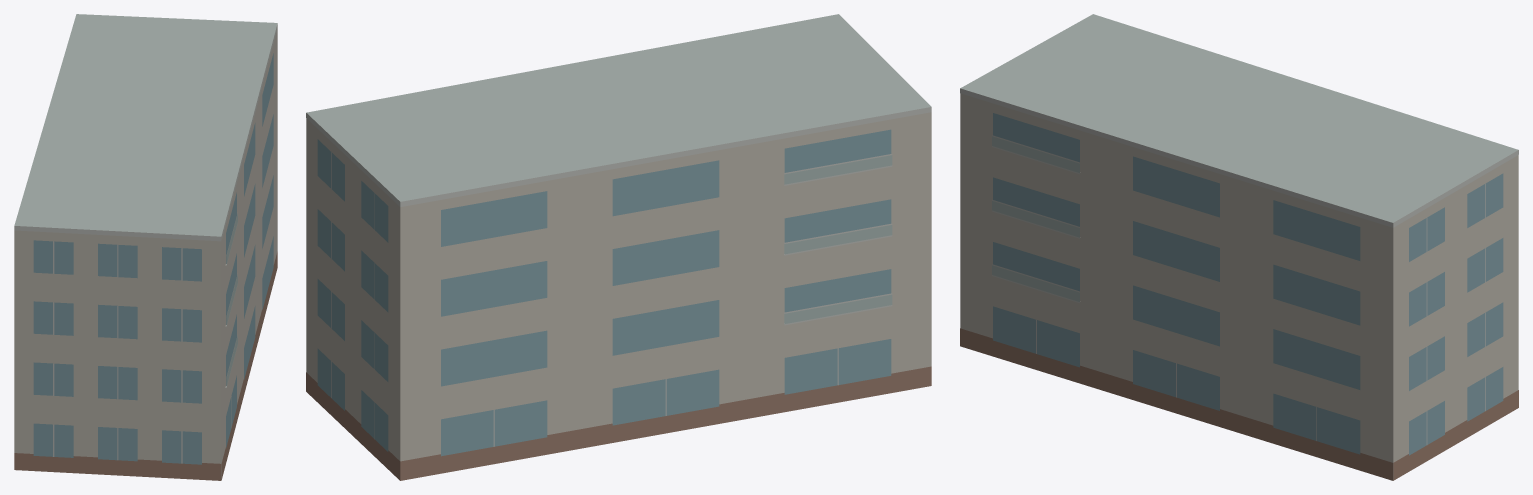
Rendered from survey-upis-32631779.glb.
3 renders of one model, left to right at view 1: azimuth 30°, elevation 25°; view 2: azimuth 150°, elevation 25°; view 3: azimuth 270°, elevation 25°, orthographic. The views are drawn at different scales.
Visible parts, largest first — view 1: survey-upis-32631779.tmp; view 2: survey-upis-32631779.tmp; view 3: survey-upis-32631779.tmp.
Part boxes in pixels (x1,y1,x2,y2): survey-upis-32631779.tmp: [14, 14, 277, 480]; survey-upis-32631779.tmp: [306, 14, 931, 480]; survey-upis-32631779.tmp: [960, 14, 1518, 480].
Size of the model in its own units: 22.25 by 12.8 by 25.13.
